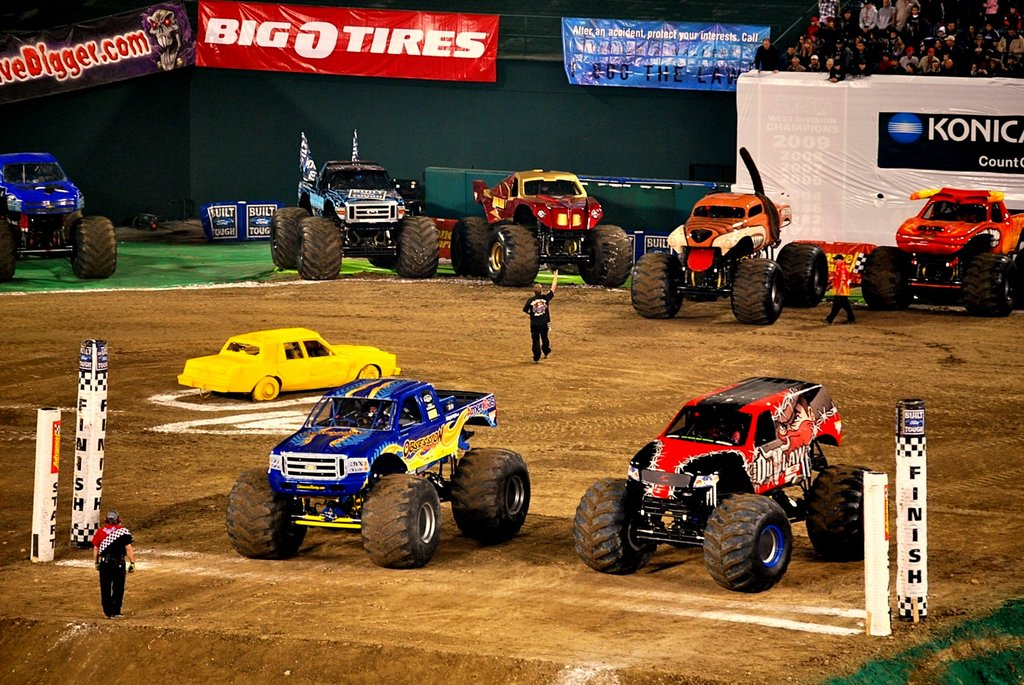person: (91, 509, 139, 619)
